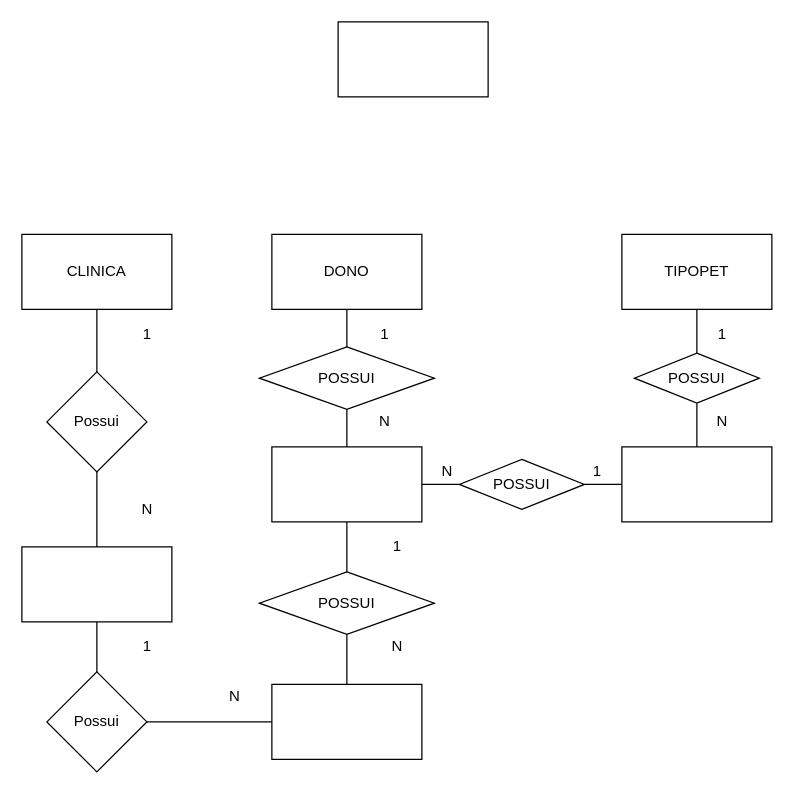
The diagram is 794 pixels wide and 794 high, and some of its shapes have lost their labels. Here are the shapes that lost their labels. From the top down, the centre of each, then its label:
(412,59): CONCEITUAL
(346,484): PET
(696,484): RAÇA
(96,584): VETERINARIO
(346,721): ATENDIMENTO
